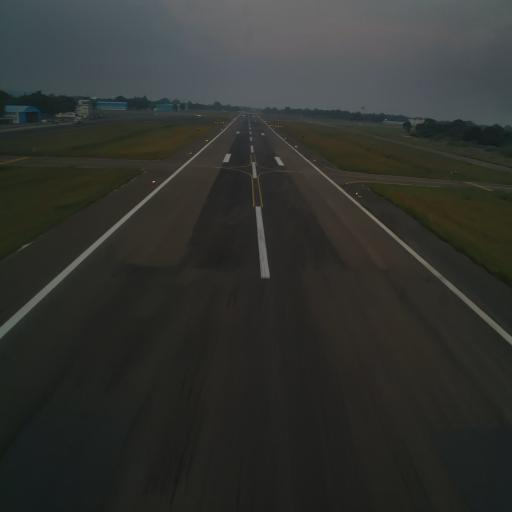on: (354, 190, 358, 196), (152, 179, 155, 185), (189, 151, 193, 155), (313, 158, 316, 163)
